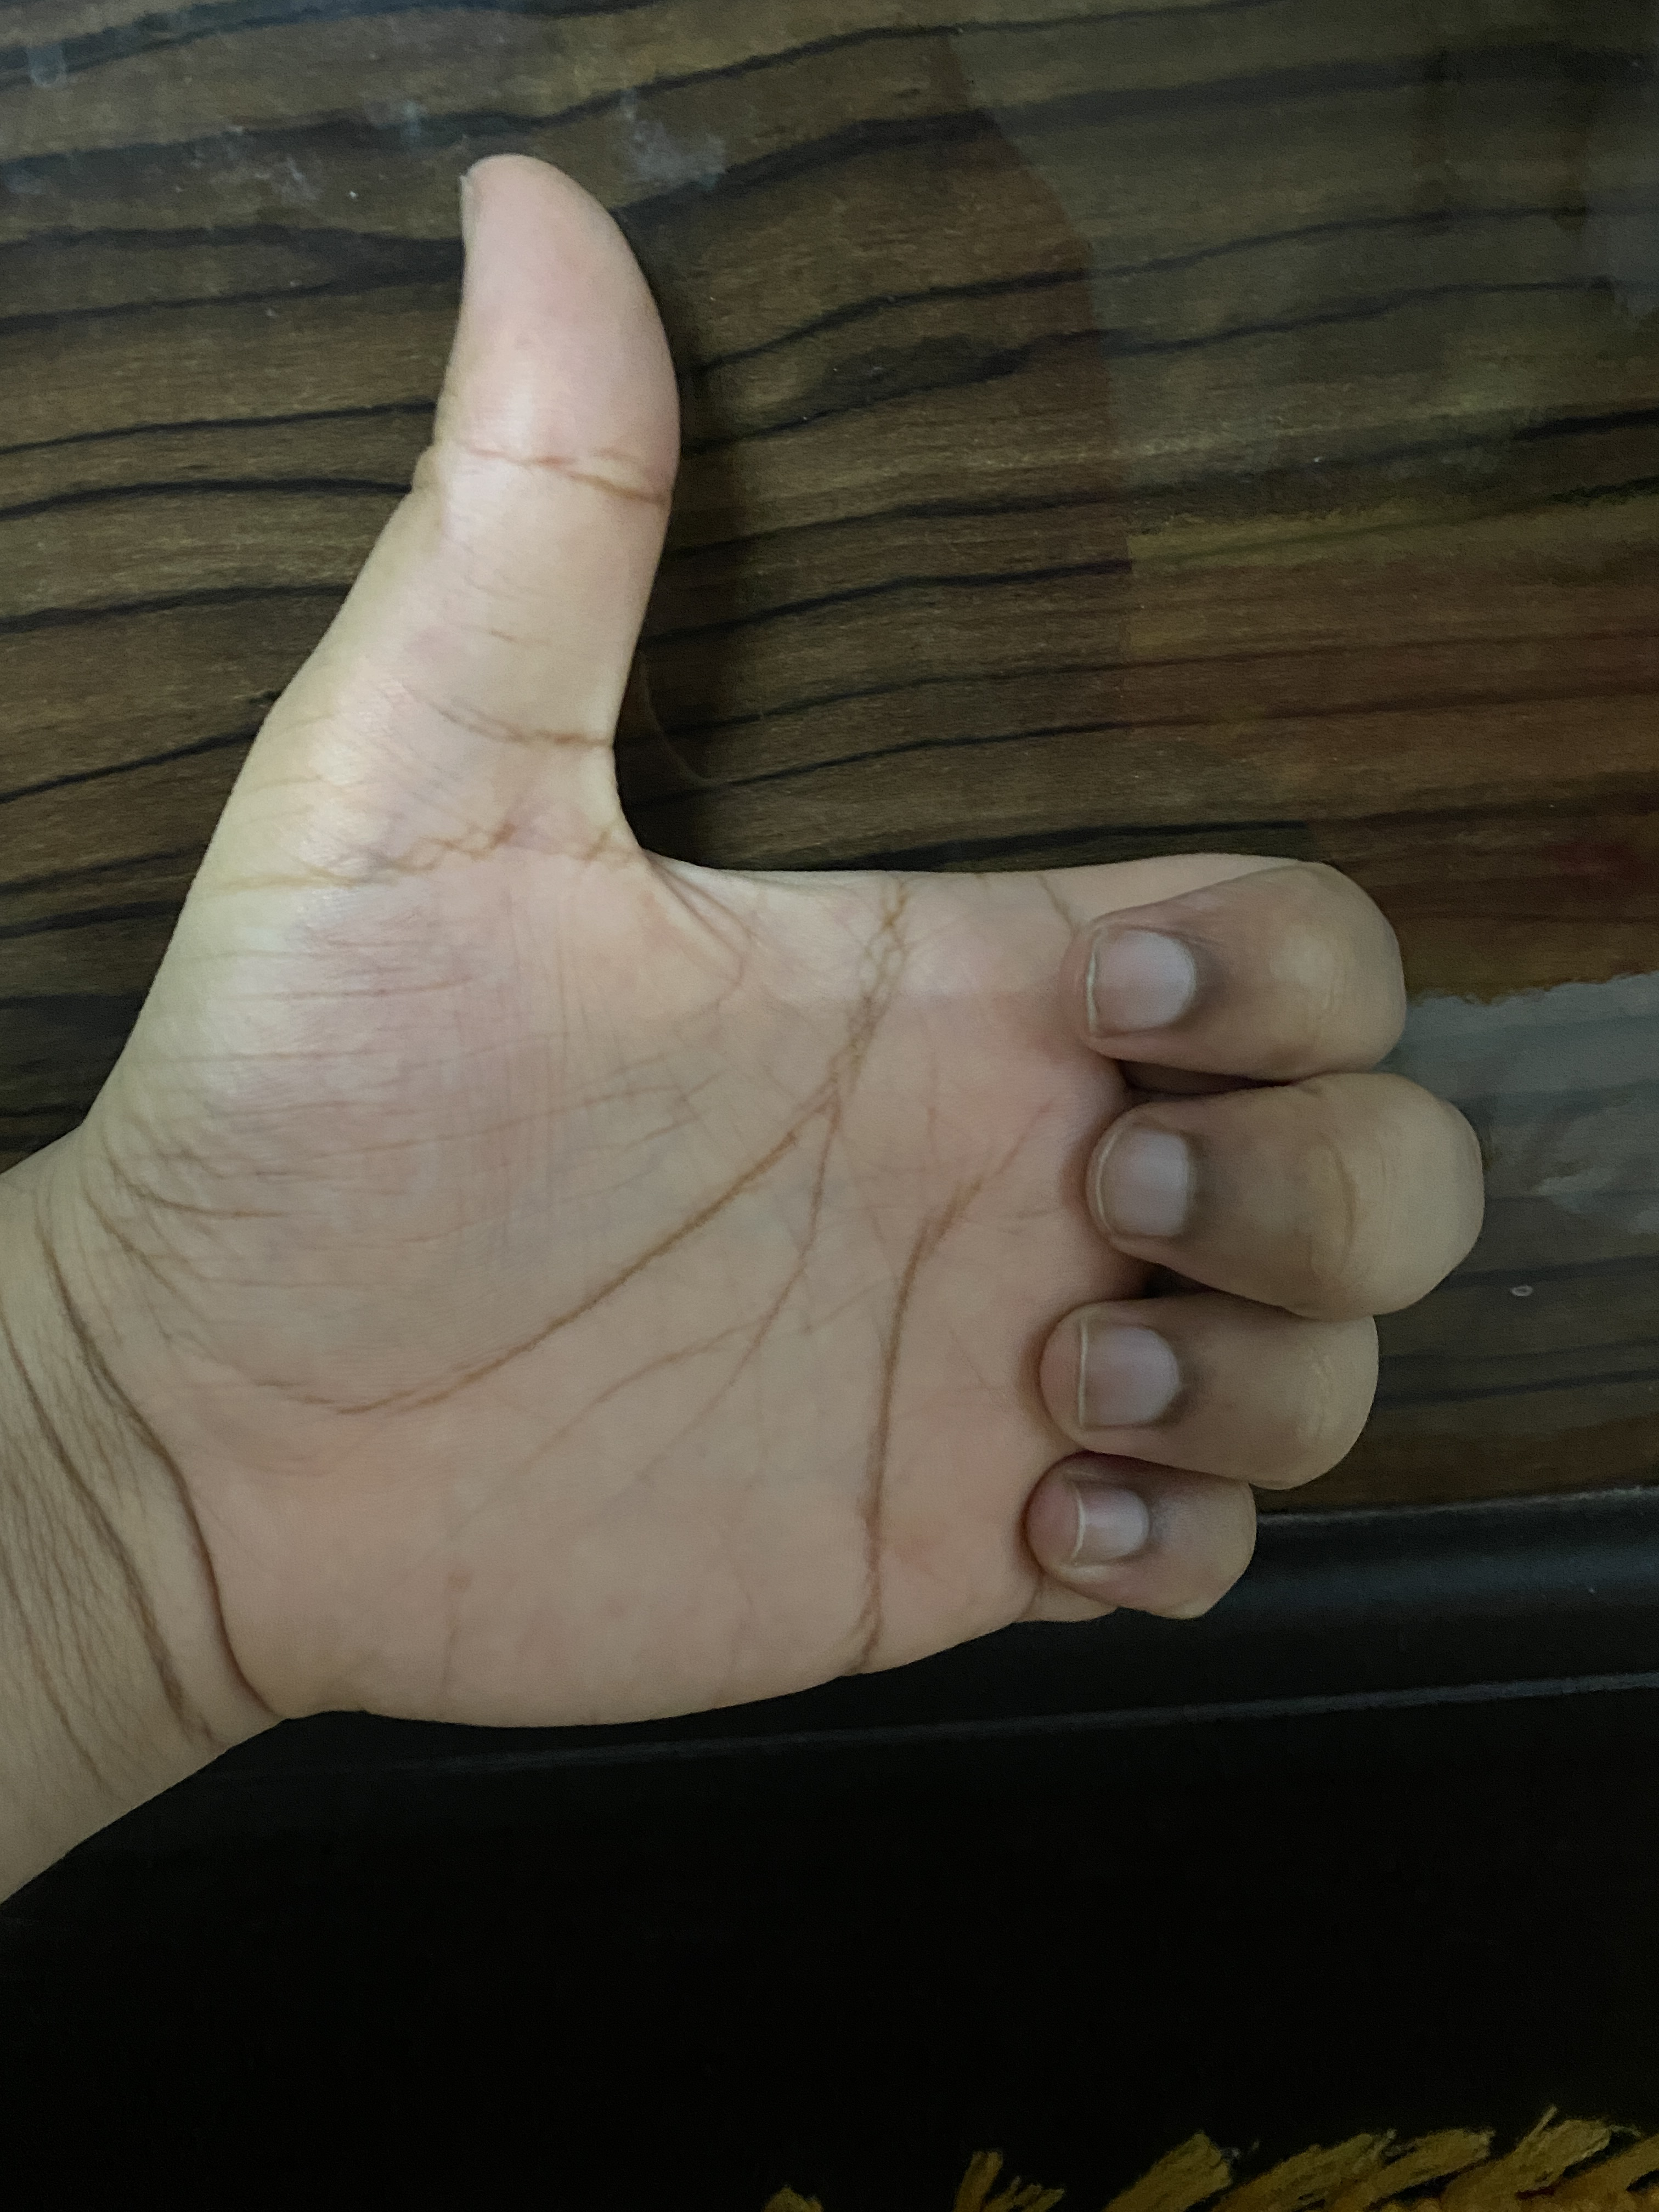up: (38, 117, 1568, 1944)
